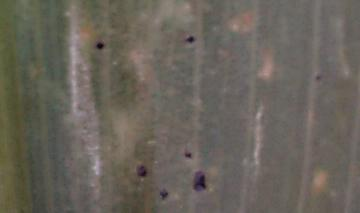tarspot: (193, 169, 207, 193), (135, 165, 148, 180), (158, 188, 168, 200), (185, 35, 196, 45), (96, 40, 105, 50), (182, 151, 192, 160), (314, 73, 321, 82)
